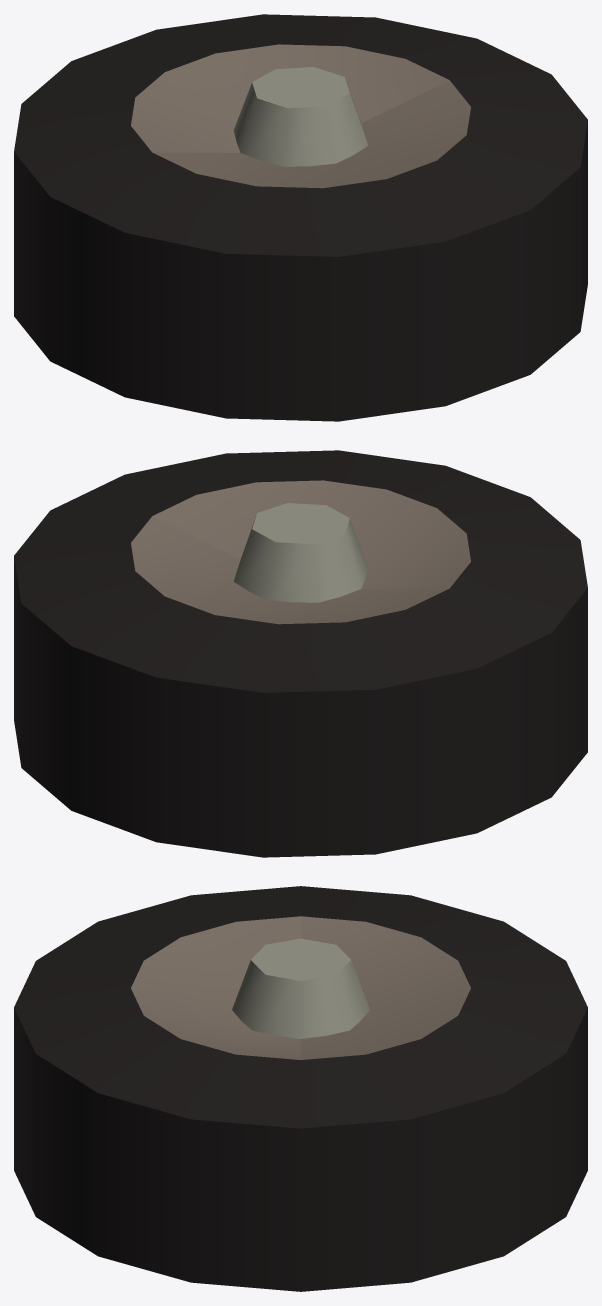
Rendered from pickup_wheel.fbx.
3 renders of one model, top to bottom at view 1: azimuth 30°, elevation 25°; view 2: azimuth 150°, elevation 25°; view 3: azimuth 270°, elevation 25°, orthographic.
Visible parts, largest first — view 1: pickup_wheel; view 2: pickup_wheel; view 3: pickup_wheel.
Part boxes in pixels (x1,y1,x2,y2): pickup_wheel: (14, 14, 587, 421); pickup_wheel: (14, 450, 587, 857); pickup_wheel: (14, 886, 587, 1291).
Bounding box in the file's own units: 85.88 × 34.8 × 85.88.
